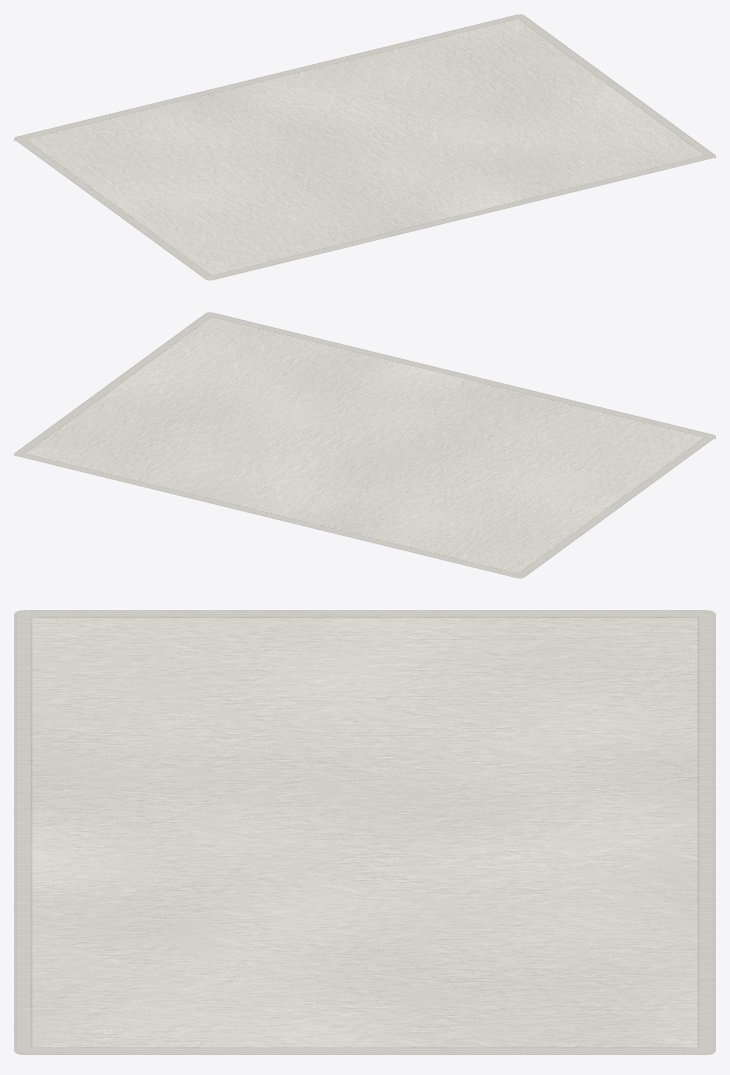
File: ivory_S_r90.glb
3 renders of one model, top to bottom at view 1: azimuth 30°, elevation 25°; view 2: azimuth 150°, elevation 25°; view 3: azimuth 270°, elevation 25°, orthographic. The views are drawn at different scales.
Visible parts, largest first — view 1: reliv_ivory_S_r90; view 2: reliv_ivory_S_r90; view 3: reliv_ivory_S_r90.
Part boxes in pixels (x1,y1,x2,y2): reliv_ivory_S_r90: [14, 14, 715, 280]; reliv_ivory_S_r90: [14, 312, 715, 578]; reliv_ivory_S_r90: [14, 610, 715, 1054].
Bounding box in the file's own units: 1.5 × 0.009 × 1.
2 materials, 1 textured.
